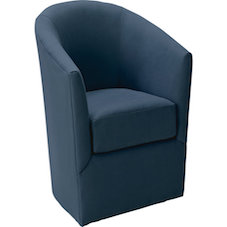chair: (25, 0, 218, 226)
